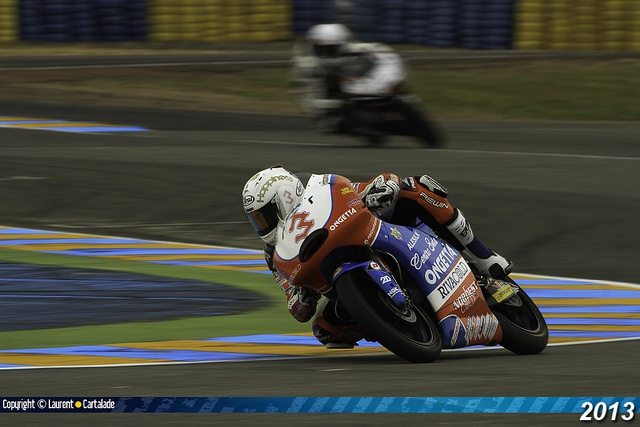non-vehicle: (281, 173, 548, 356), (311, 37, 453, 149)
